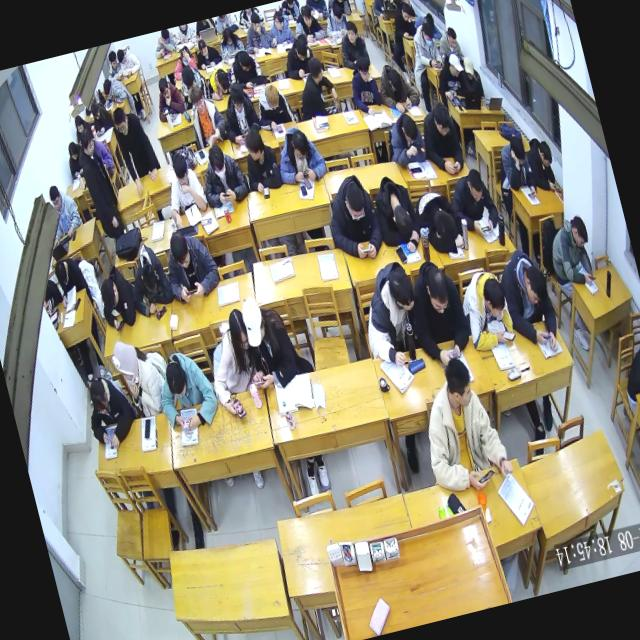bow: (494, 243, 564, 359), (149, 343, 223, 438), (454, 264, 519, 354), (366, 170, 426, 260), (78, 366, 140, 453), (410, 184, 467, 260), (91, 261, 144, 336), (372, 58, 422, 118), (522, 132, 561, 198), (49, 251, 89, 308), (174, 62, 212, 112), (278, 36, 318, 82), (200, 62, 235, 103), (168, 42, 200, 82), (98, 72, 132, 108), (150, 28, 178, 59)
down: (236, 294, 270, 349), (421, 264, 454, 318), (385, 264, 419, 316), (519, 260, 552, 309), (480, 274, 510, 322), (225, 305, 252, 354), (167, 229, 196, 274), (162, 359, 190, 402), (85, 375, 112, 418), (341, 183, 368, 224), (168, 149, 194, 191), (205, 142, 230, 182), (288, 126, 313, 164), (464, 166, 488, 205), (136, 260, 162, 296), (568, 212, 592, 251), (430, 100, 454, 138), (398, 112, 422, 148), (98, 276, 122, 312), (76, 125, 98, 160), (110, 104, 132, 138), (508, 134, 530, 168), (227, 82, 247, 114), (536, 137, 556, 169), (353, 53, 373, 84), (46, 182, 65, 214), (52, 258, 72, 288), (263, 82, 282, 112), (418, 20, 438, 48), (386, 66, 404, 96), (213, 65, 232, 93), (446, 52, 464, 80), (461, 54, 478, 82), (236, 48, 254, 74), (329, 0, 347, 26), (292, 37, 310, 62), (156, 76, 173, 102), (298, 2, 315, 28), (178, 42, 194, 68), (444, 24, 459, 50), (398, 0, 414, 23), (88, 100, 103, 122), (100, 76, 115, 98), (65, 140, 79, 162), (221, 26, 235, 48), (196, 38, 210, 59), (114, 46, 128, 66), (395, 0, 408, 4)
lookup: (186, 82, 209, 117), (342, 20, 360, 46)
sit: (406, 348, 518, 502), (399, 253, 476, 373), (350, 258, 431, 372), (196, 304, 267, 421), (232, 288, 304, 397), (317, 169, 388, 265), (70, 122, 126, 242), (154, 222, 224, 308), (108, 332, 172, 422), (109, 99, 164, 197), (540, 211, 602, 293), (444, 164, 504, 242), (414, 98, 470, 180), (120, 238, 176, 319), (158, 147, 212, 230), (193, 138, 252, 212), (270, 120, 330, 188), (235, 124, 285, 198), (290, 51, 342, 120), (214, 78, 264, 148), (494, 130, 540, 205), (182, 80, 230, 150), (382, 106, 429, 170), (342, 52, 386, 120), (250, 78, 298, 134), (44, 178, 84, 240), (332, 16, 372, 72), (430, 50, 471, 104), (408, 17, 446, 74), (224, 44, 266, 94), (149, 72, 187, 125), (615, 337, 640, 412), (288, 0, 326, 46), (238, 11, 272, 56), (262, 7, 296, 51), (457, 54, 486, 102), (388, 0, 419, 43), (319, 0, 353, 38), (86, 96, 116, 138), (191, 34, 223, 72), (214, 23, 246, 61), (434, 24, 464, 64), (62, 138, 88, 180), (114, 42, 142, 78), (367, 0, 394, 20)
